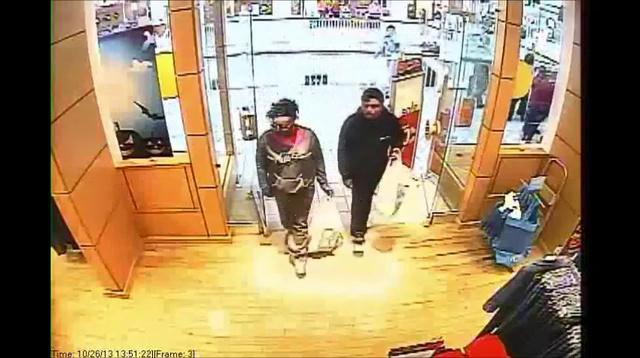Customer-Bagpack: (380, 170, 414, 222), (306, 205, 340, 256)
Regular: (240, 90, 346, 300), (336, 79, 418, 263)
